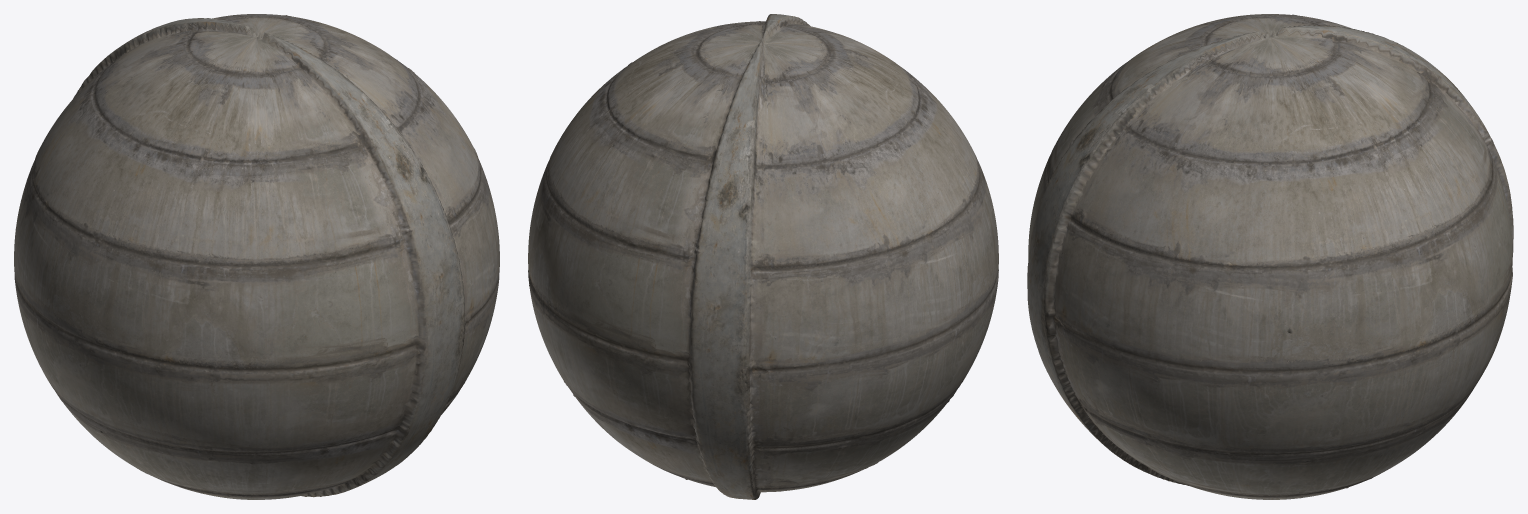
Rendered from concrete_slab_wall_02_4k.gltf.
3 views of the same model, side by side, from view 1: azimuth 30°, elevation 25°; view 2: azimuth 150°, elevation 25°; view 3: azimuth 270°, elevation 25° (orthographic). The views are drawn at different scales.
Parts seen in each view (by area): view 1: sphere_gltf; view 2: sphere_gltf; view 3: sphere_gltf.
Part boxes in pixels (x1,y1,x2,y2): sphere_gltf: (14,14,499,499); sphere_gltf: (528,14,998,499); sphere_gltf: (1027,14,1513,499).
Size of the model in its own units: 2.1 by 2.17 by 2.1.
1 material, 1 textured.
